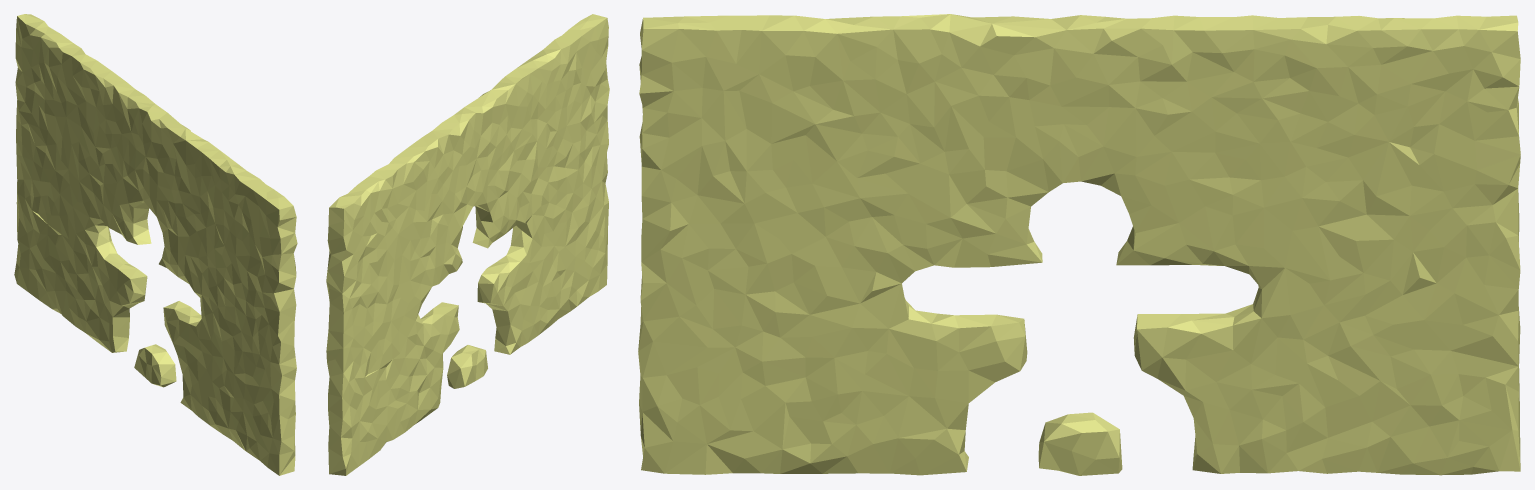
The model's file is Wall1.fbx.
3 views of the same model, side by side, from view 1: azimuth 30°, elevation 25°; view 2: azimuth 150°, elevation 25°; view 3: azimuth 270°, elevation 25° (orthographic). The views are drawn at different scales.
Visible parts, largest first — view 1: FinalWall1; view 2: FinalWall1; view 3: FinalWall1.
Boxes of the visible parts, left/top/right/bottom form: FinalWall1: left=14, top=14, right=297, bottom=475; FinalWall1: left=326, top=14, right=609, bottom=475; FinalWall1: left=638, top=14, right=1520, bottom=475.
Bounding box in the file's own units: 102 × 1207 × 2146.
